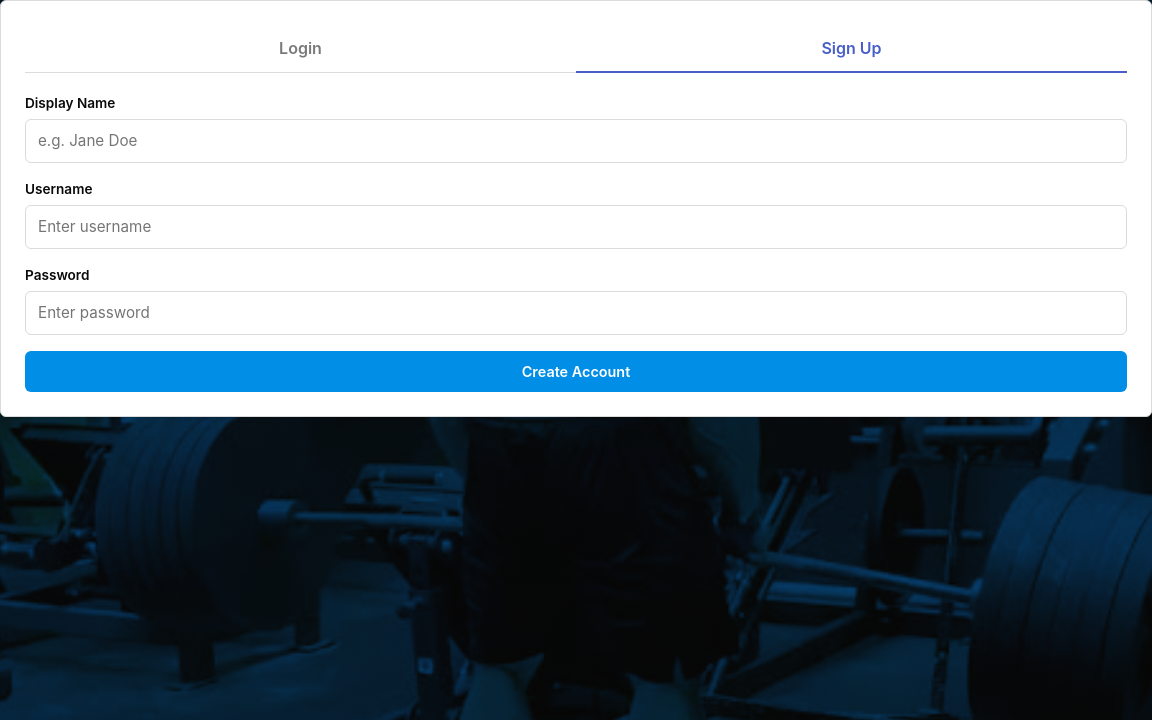
AuthCard › lets the user switch to the Login tab
Click the tab "Login" at (300, 49), box [25, 25, 576, 73]
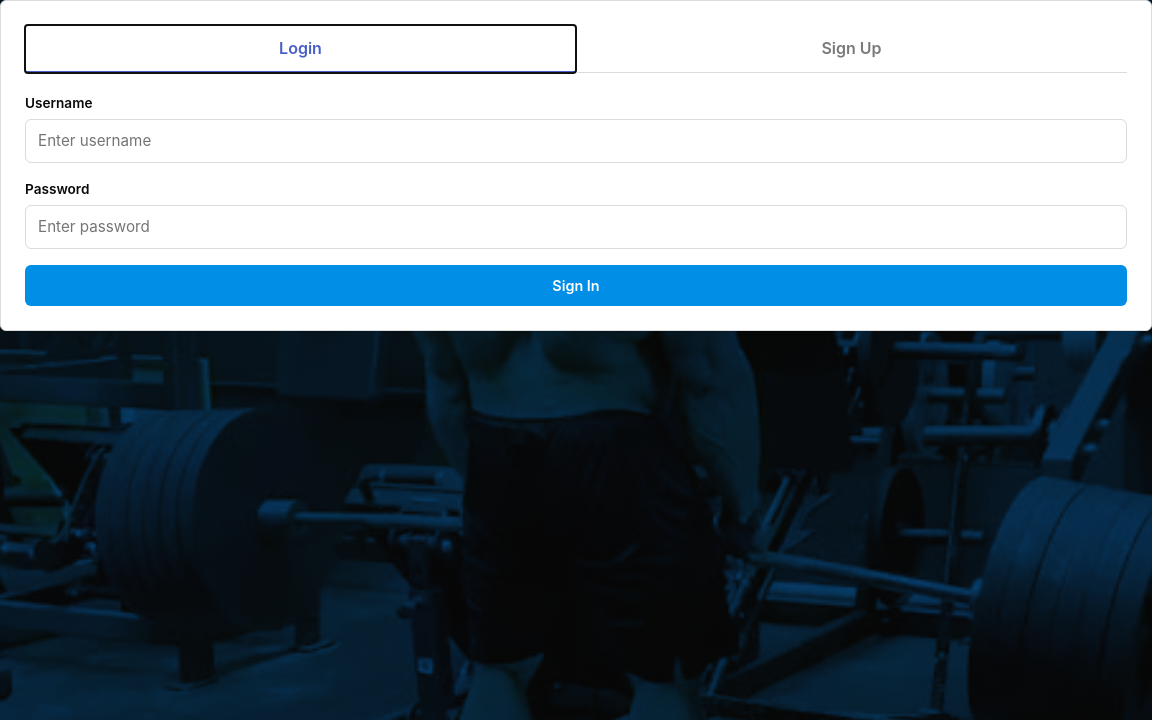
Check: the label labelled "Display Name" is gone
Check: the button "Sign In" is shown, box [25, 265, 1127, 306]
